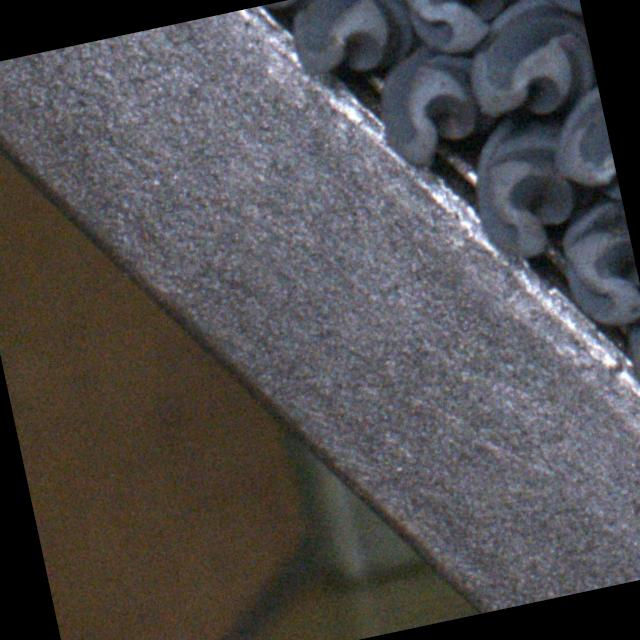tool_b: (460, 109, 589, 263), (453, 0, 599, 129), (368, 42, 494, 172), (555, 199, 640, 334), (283, 0, 417, 83), (542, 88, 622, 216), (395, 0, 538, 58), (617, 289, 640, 411)
